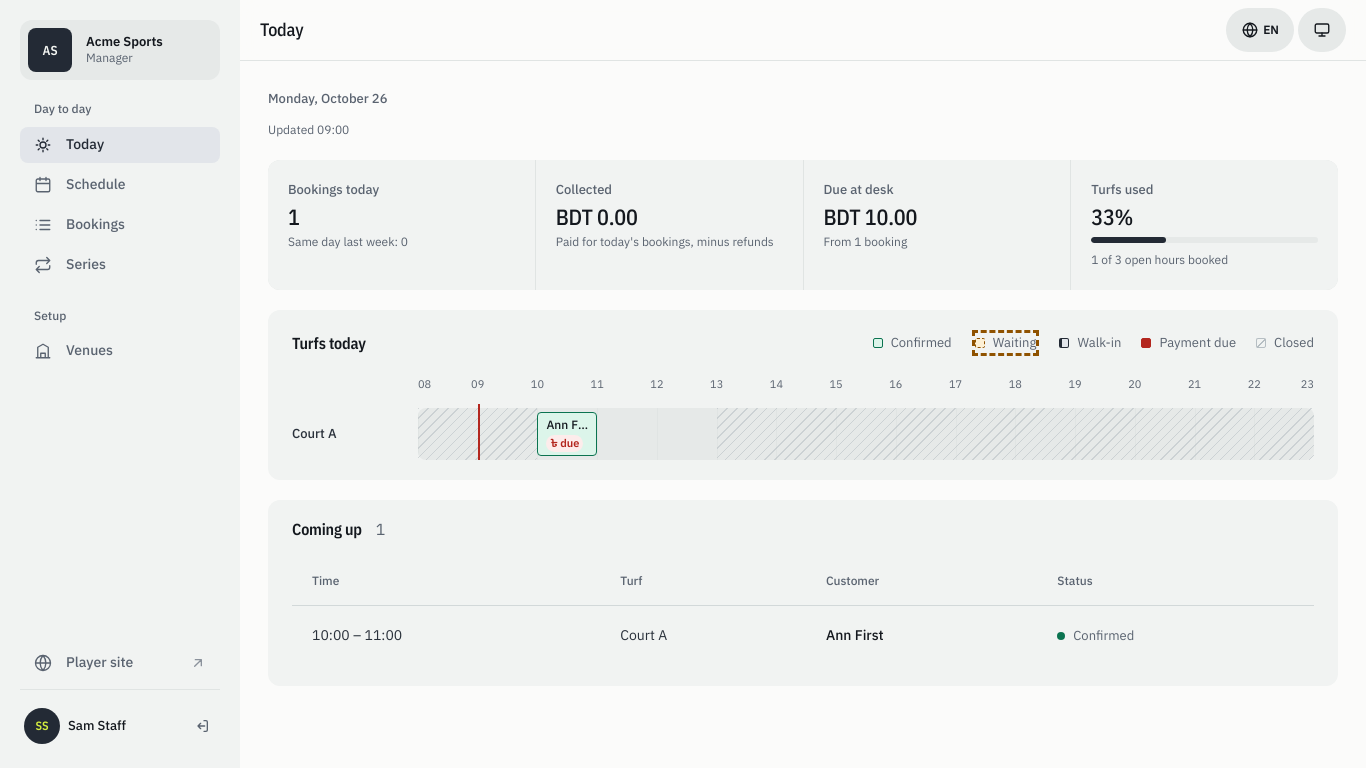
Today page › Today keeps the sheet open across a refresh
The width and height of the screenshot is (1366, 768).
Click the button with aria-label "Court A, 10:00–11:00": {"x": 567, "y": 434} x1=538 y1=412 x2=597 y2=456
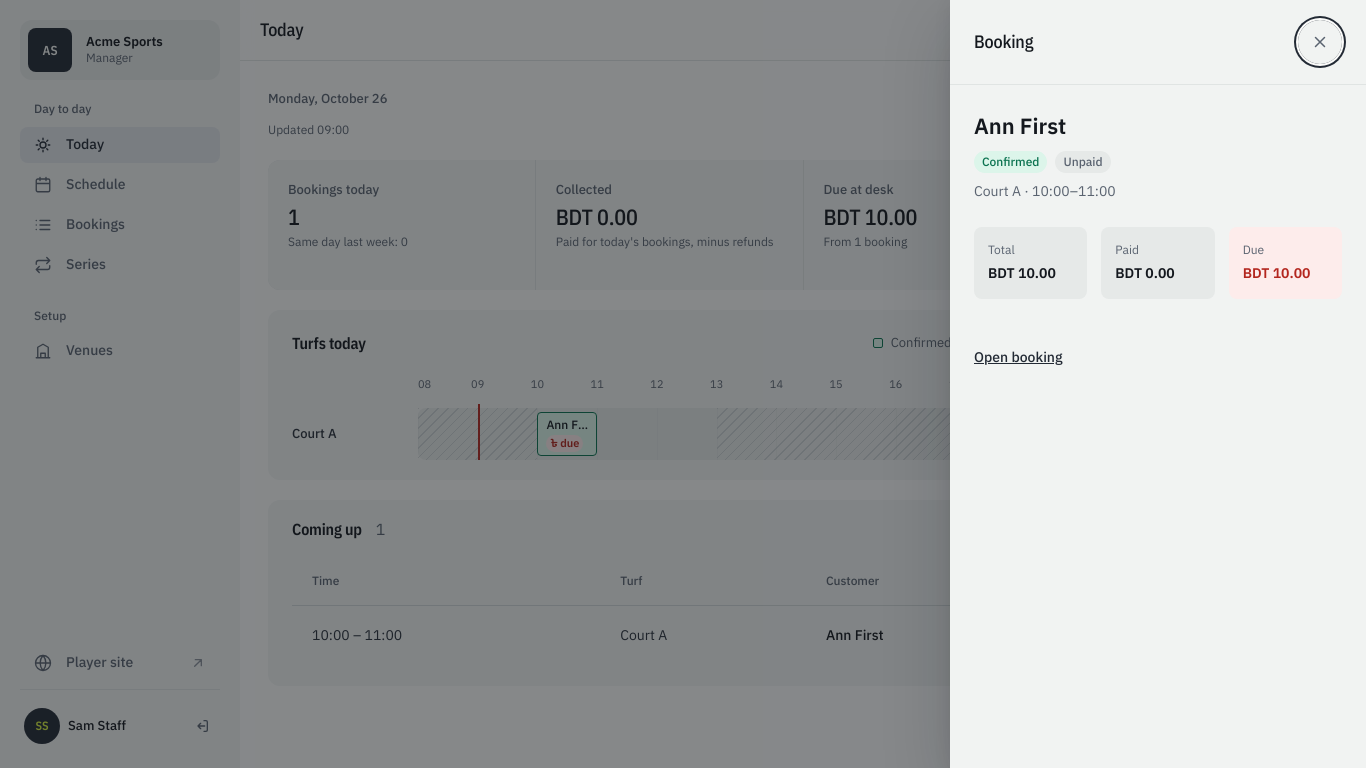
Expected: the text "Updated 09:00" is shown, x1=268 y1=122 x2=349 y2=137
Expected: the text "Ann First" is shown, x1=974 y1=109 x2=1066 y2=143
